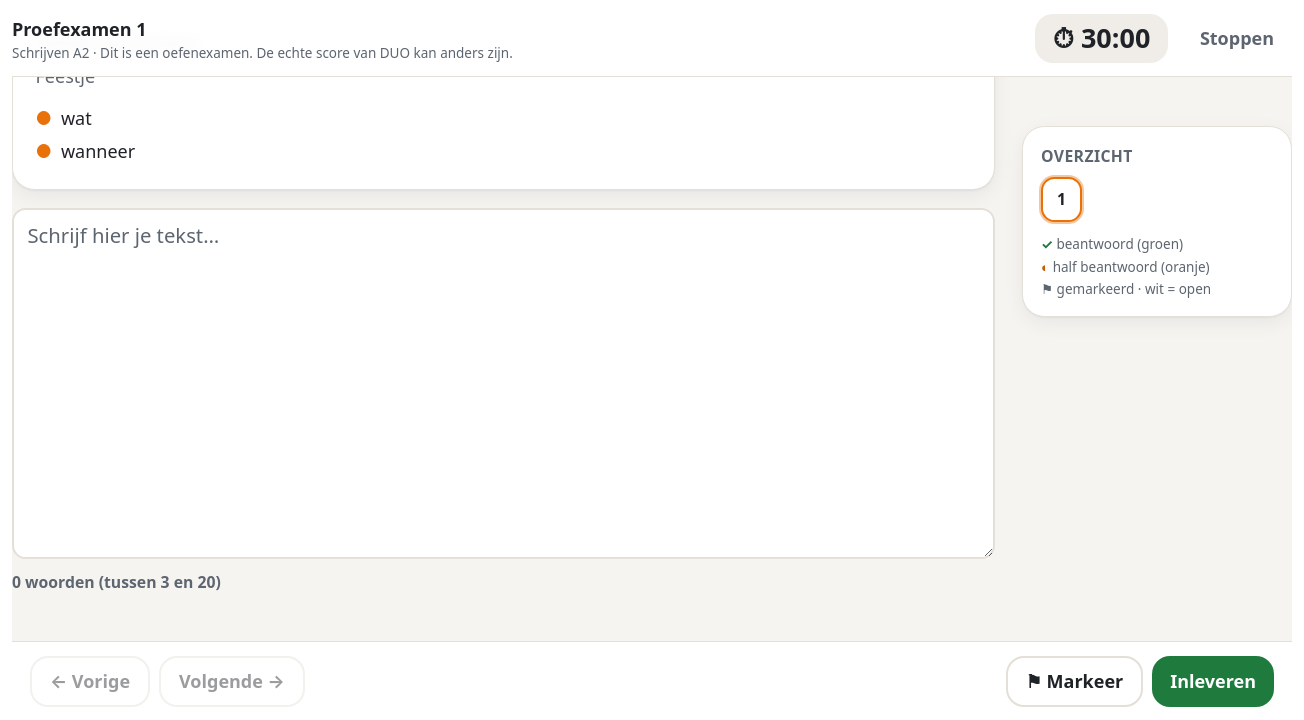
Test: writing and form exams › shows the task, counts words while typing, and saves the text
(page scrolled)
Type "ik kom graag langs" into the text box with placeholder "Schrijf hier je tekst…" at (504, 383), box [12,208,995,559]
Wait 400 ms
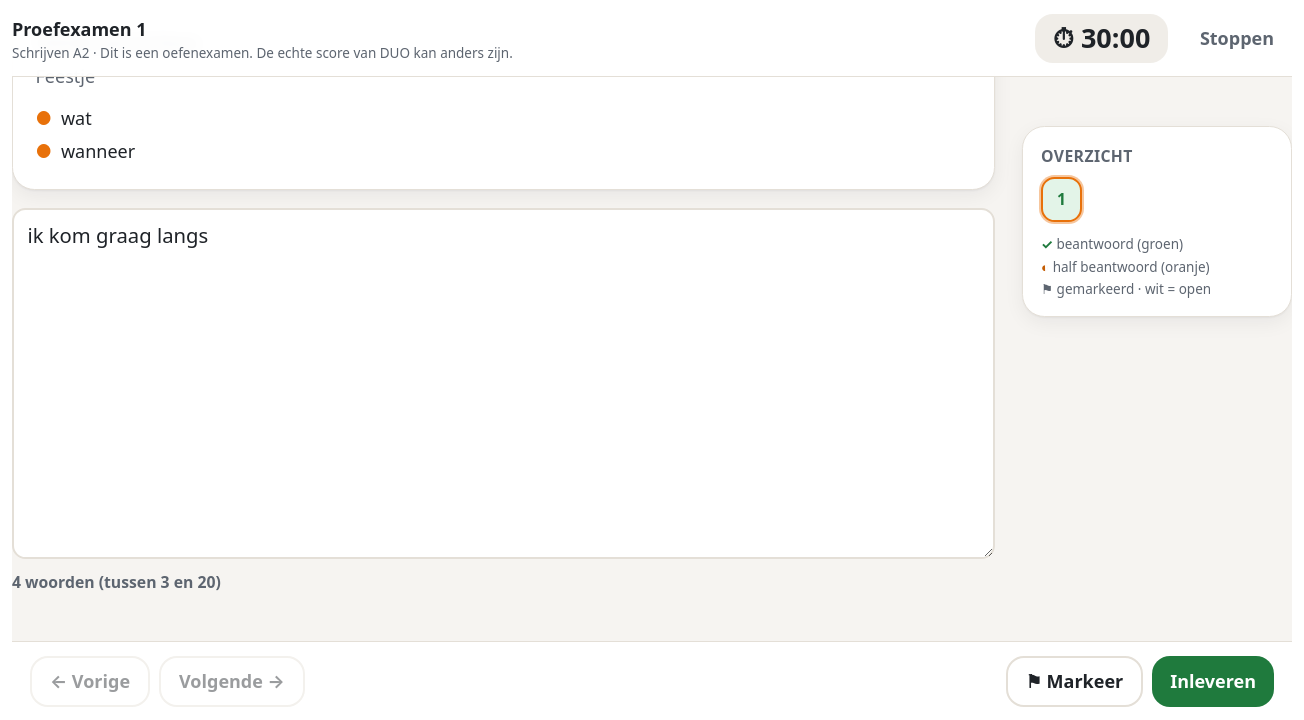
Expected: the text "4 woorden" is shown, [12,571,221,593]
